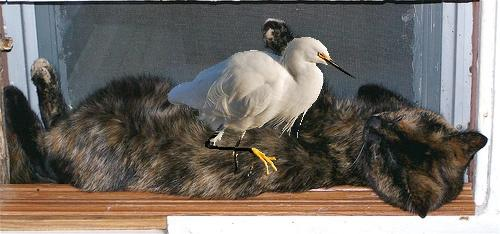tampered: (168, 38, 358, 176)
